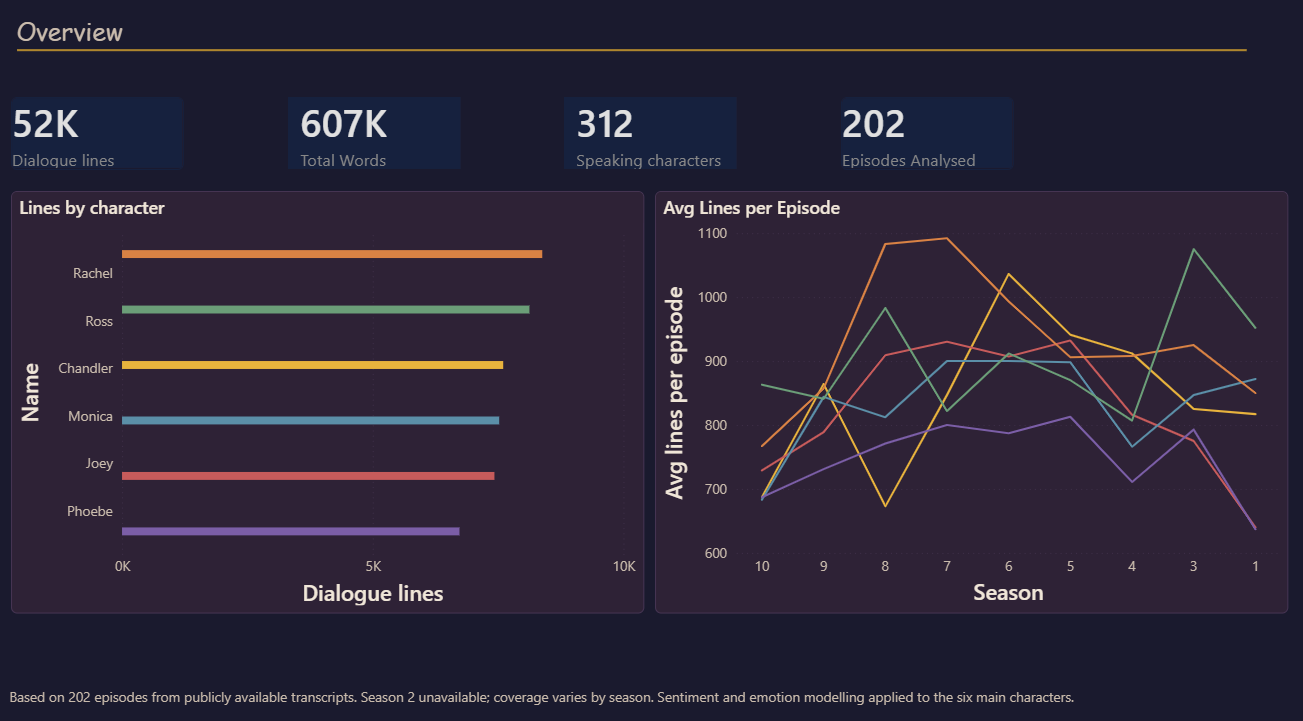

The dashboard page shown, as its layout file describes it:
{"tool":"powerbi","page":{"name":"Overview","canvas":[1280,720],"ordinal":0},"visuals":[{"type":"cardVisual","fields":{"Data":["_Measures.Total Lines"]},"box":[13.6,101.2,168,70.9],"z":0},{"type":"cardVisual","fields":{"Data":["_Measures.Total Words"]},"box":[282.6,101.2,168,70.9],"z":1000},{"type":"cardVisual","fields":{"Data":["_Measures.Total Characters"]},"box":[551.6,101.2,168.3,70],"z":2000},{"type":"clusteredBarChart","title":"Lines by character","fields":{"Category":["DimCharacter.Name"],"Series":["DimCharacter.Name"],"Y":["_Measures.Total Lines"]},"box":[13.6,192.7,615.7,411.4],"z":3000},{"type":"lineChart","title":"Avg Lines per Episode","fields":{"Category":["Dialogue.Season"],"Series":["DimCharacter.Name"],"Y":["_Measures.Total Lines"]},"box":[640,192.9,616,411],"z":4000},{"type":"cardVisual","fields":{"Data":["_Measures.Episodes Covered"]},"box":[820.9,101.2,168,70.9],"z":5000},{"type":"textbox","box":[6.8,670.2,1248.9,49.6],"z":6000},{"type":"textbox","box":[13.6,15.6,164.4,45.7],"z":7000},{"type":"shape","box":[17.5,49.6,1200,12],"z":8000}]}

Visuals, with their boxes in screenshot pixels (x1, y1, x2, y2), scaled from the page's 1280x720 canvas onto the 1303x721 screenshot:
cardVisual - _Measures.Total Lines: (14,101,185,172)
cardVisual - _Measures.Total Words: (288,101,459,172)
cardVisual - _Measures.Total Characters: (562,101,733,171)
"Lines by character" clusteredBarChart: (14,193,641,605)
"Avg Lines per Episode" lineChart: (652,193,1279,605)
cardVisual - _Measures.Episodes Covered: (836,101,1007,172)
textbox: (7,671,1278,720)
textbox: (14,16,181,61)
shape: (18,50,1239,62)
